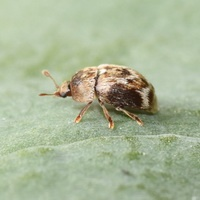insect: (39, 64, 157, 128)
